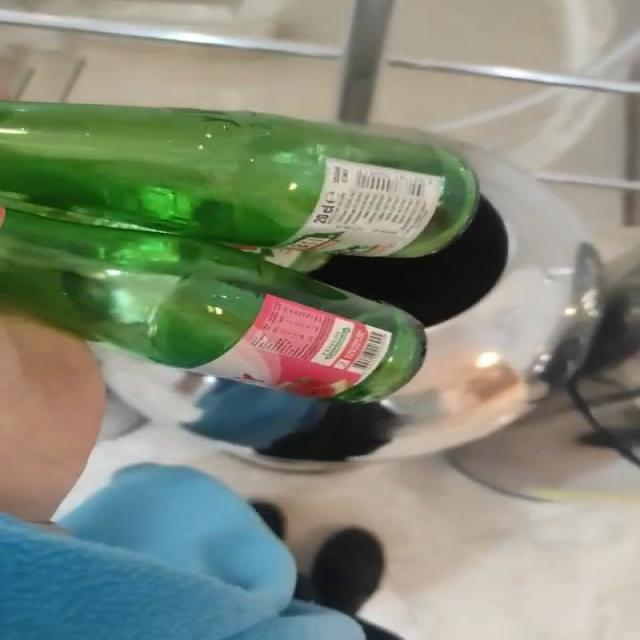Glass: (0, 101, 479, 402)
